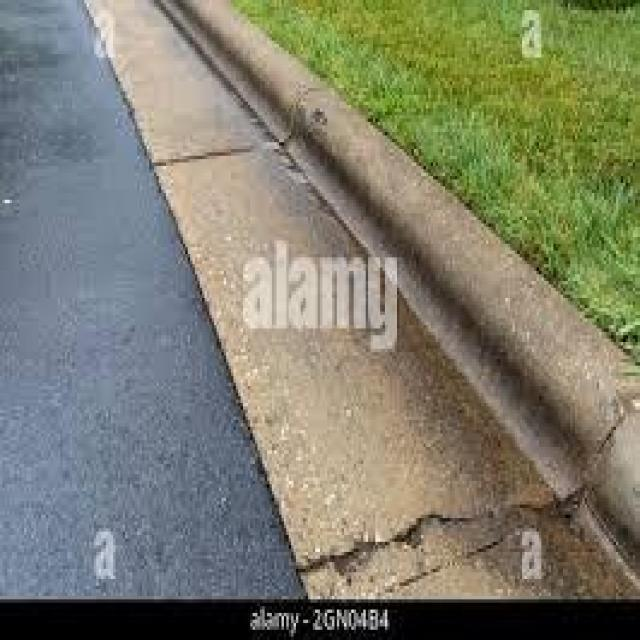curb: (166, 4, 640, 595)
